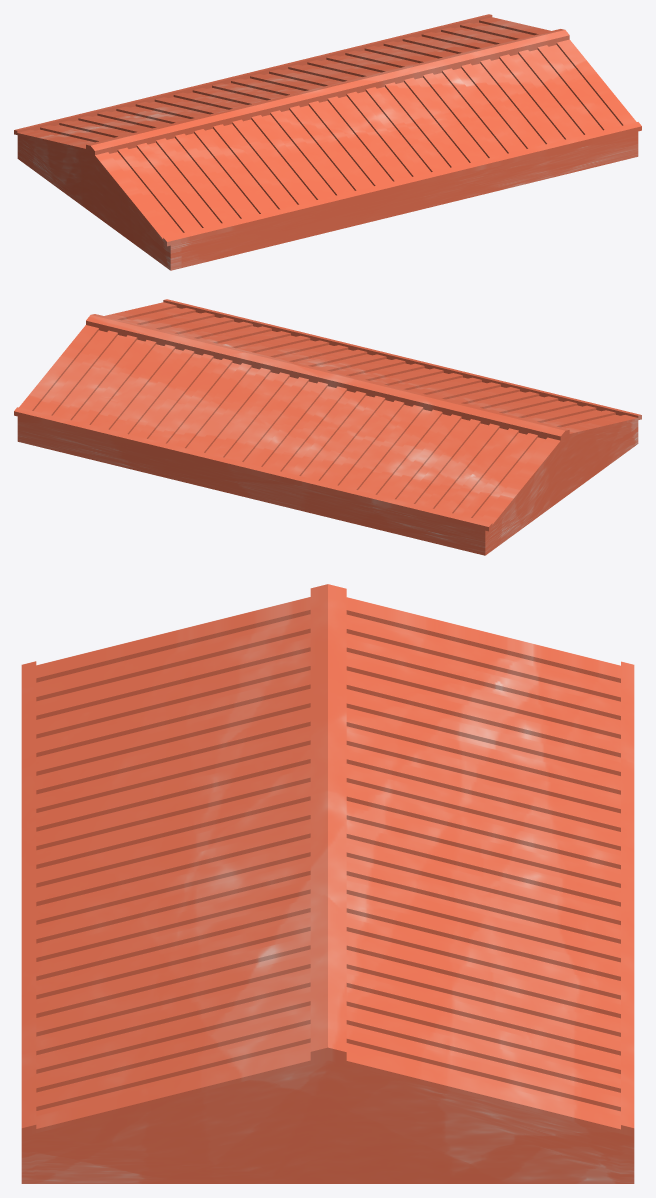
Rendered from roof_MTAsubway.fbx.
The picture shows the model from 3 angles, top to bottom: view 1: azimuth 30°, elevation 25°; view 2: azimuth 150°, elevation 25°; view 3: azimuth 270°, elevation 25°; orthographic projection. The views are drawn at different scales.
Parts seen in each view (by area): view 1: Cube; view 2: Cube; view 3: Cube.
Part boxes in pixels (<box>): Cube: <box>14,14,641,270</box>; Cube: <box>14,299,641,555</box>; Cube: <box>21,584,634,1183</box>.
Size of the model in its own units: 3940 by 554 by 2200.
